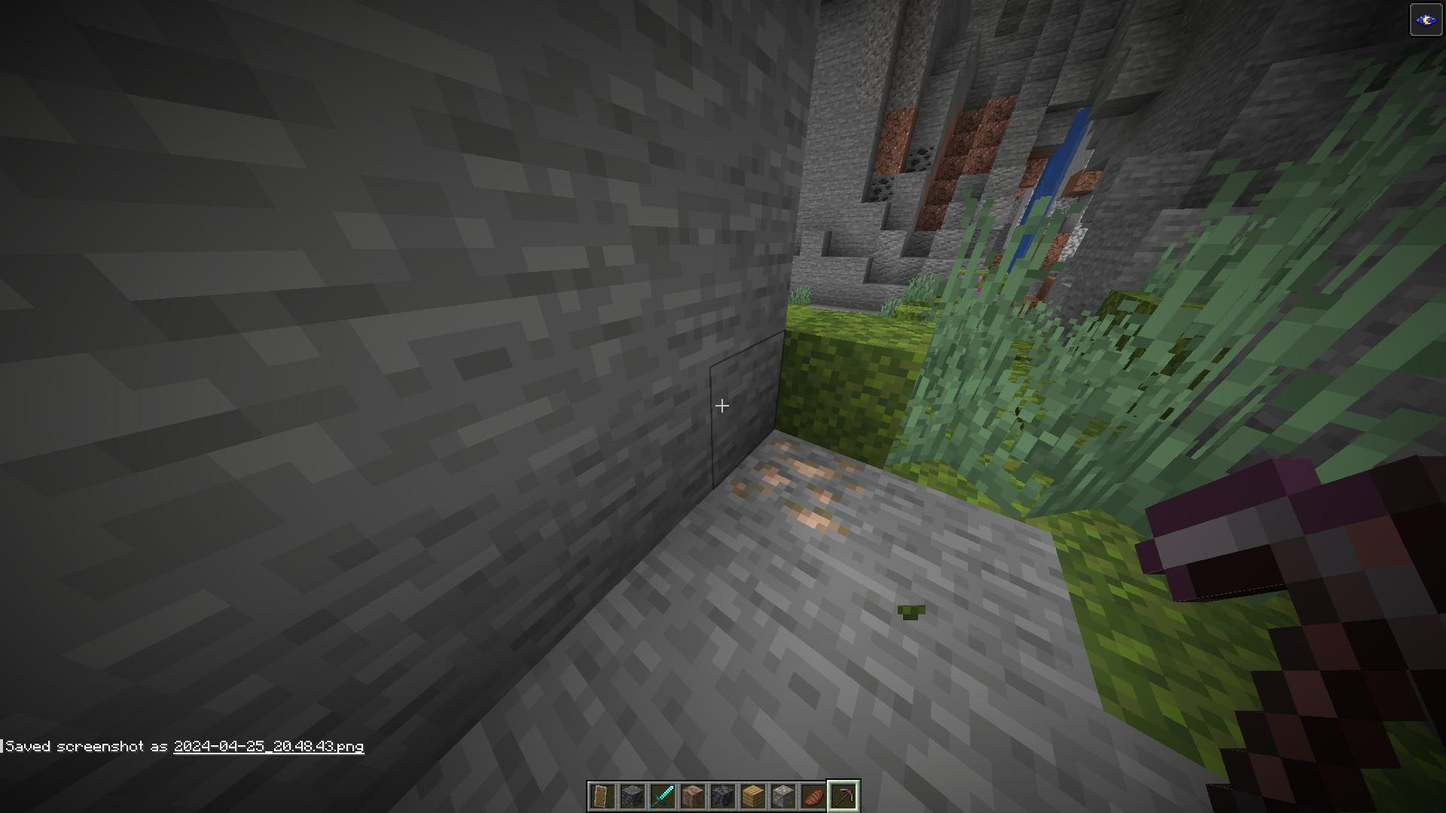iron ore: (734, 438, 867, 538)
